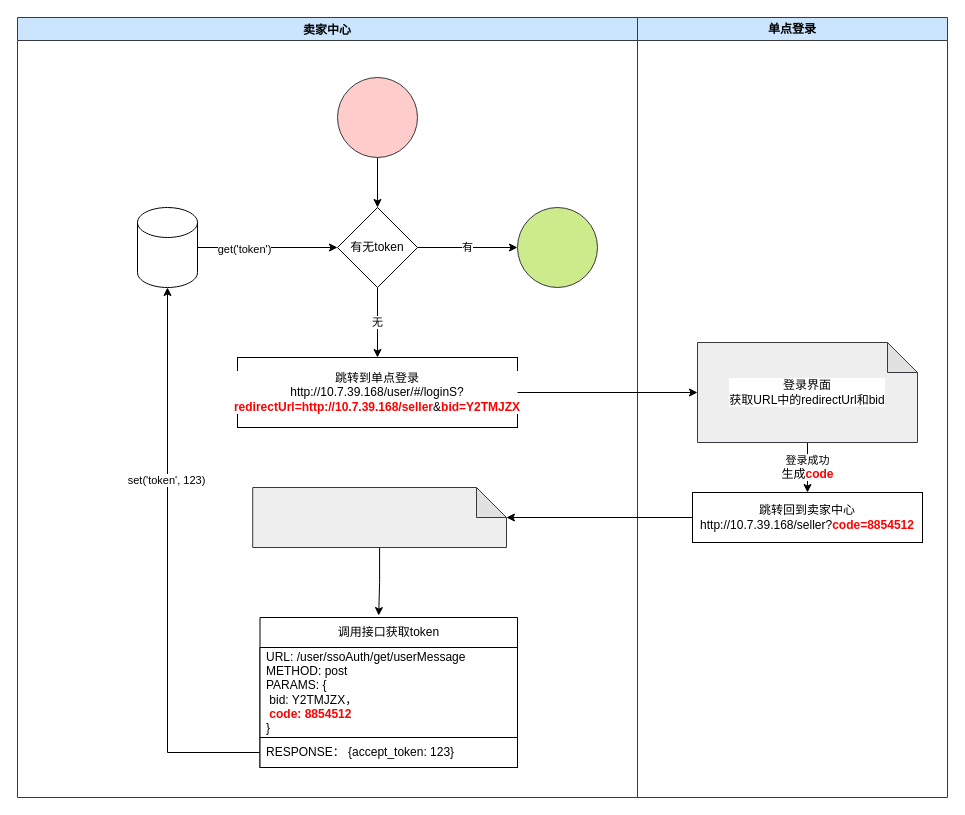
Image size: 965x815. Some labels were removed from this diagram. The shapes that lost their labels are listed below. From the top down, each one's box as (x1, y1, x2, y2) in pixels, then its label:
(336, 76, 418, 158): start
(136, 206, 198, 288): cookie
(516, 206, 598, 288): end
(252, 486, 506, 548): 卖家中心任意页面 获取URL中的 code
